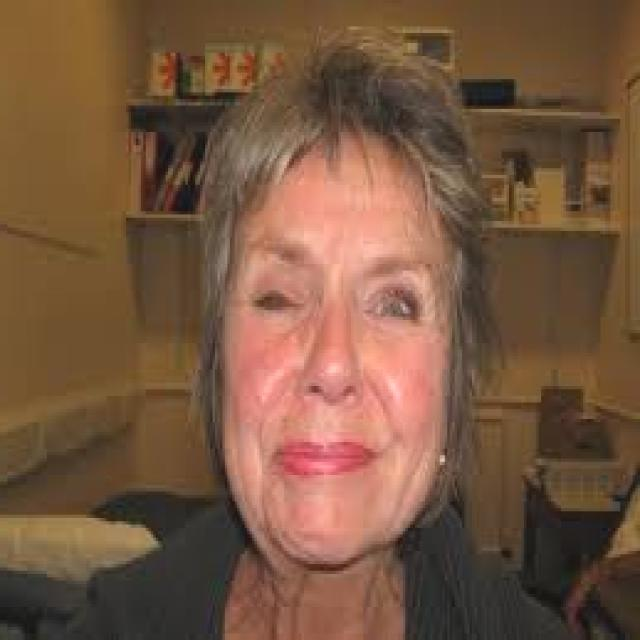stroke_face: (198, 69, 466, 576)
